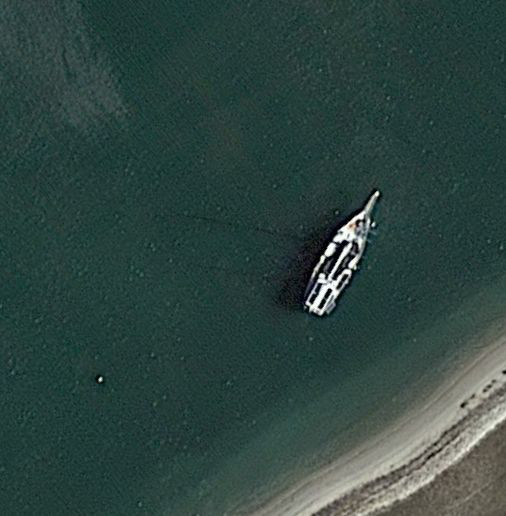boat: (300, 186, 384, 316)
